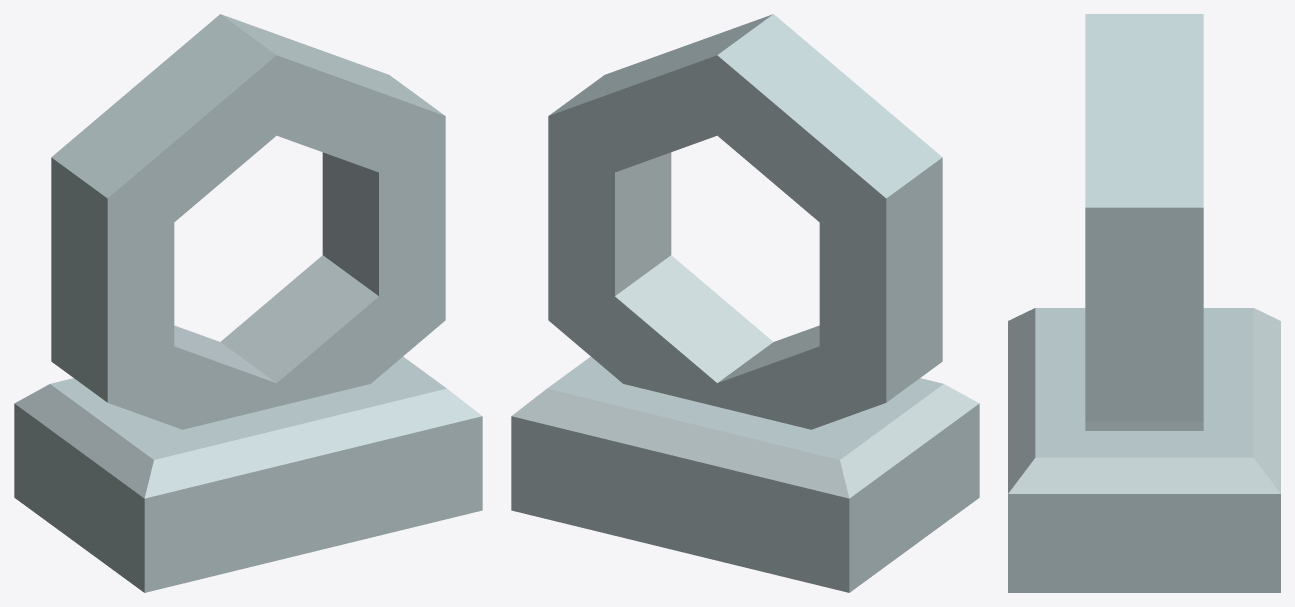
File: statue_ring.gltf
3 views of the same model, side by side, from view 1: azimuth 30°, elevation 25°; view 2: azimuth 150°, elevation 25°; view 3: azimuth 270°, elevation 25° (orthographic). The views are drawn at different scales.
Visible parts, largest first — view 1: statue_ring; view 2: statue_ring; view 3: statue_ring.
Boxes of the visible parts, <box> form: statue_ring: <box>14,14,482,592</box>; statue_ring: <box>511,14,979,592</box>; statue_ring: <box>1008,14,1280,592</box>.
Bounding box in the file's own units: 0.6 × 0.7964 × 0.4.
